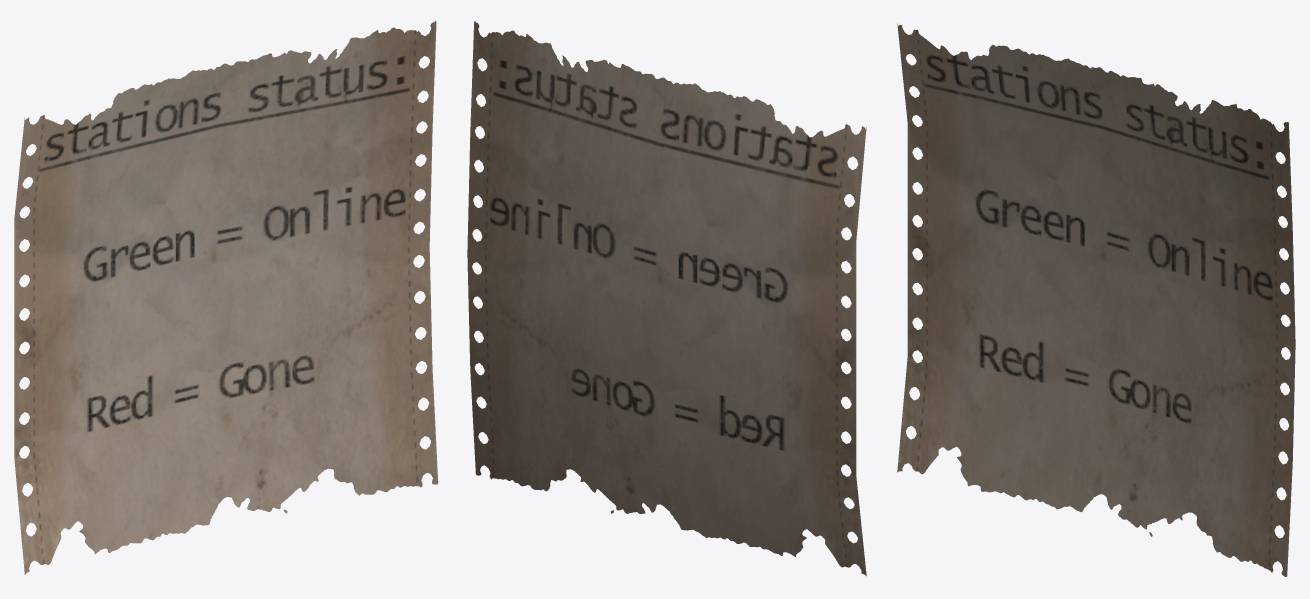
File: note_control_room_map.dae
The picture shows the model from 3 angles, left to right: view 1: azimuth 30°, elevation 25°; view 2: azimuth 150°, elevation 25°; view 3: azimuth 330°, elevation 25°; orthographic projection.
Visible parts, largest first — view 1: pPlane1; view 2: pPlane1; view 3: pPlane1.
Part boxes in pixels (<box>): pPlane1: <box>14,21,438,574</box>; pPlane1: <box>467,21,866,576</box>; pPlane1: <box>897,23,1295,576</box>.
Bounding box in the file's own units: 0.407 × 0.4574 × 0.0335.
